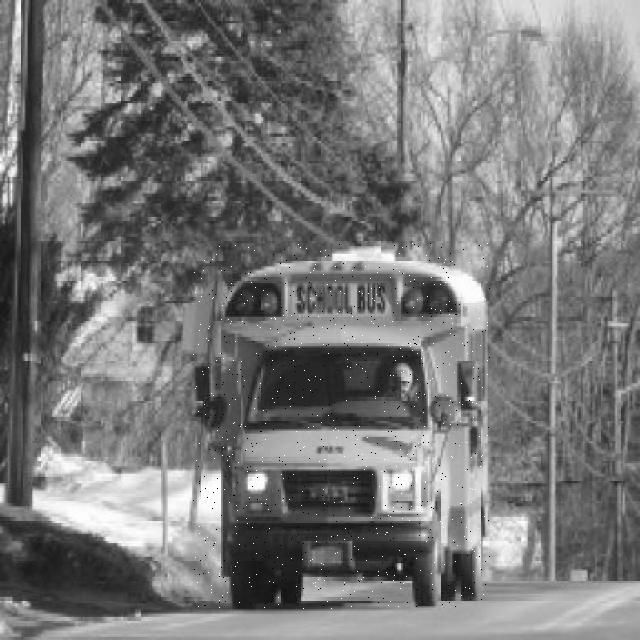Bus- Small: (193, 243, 490, 609)
